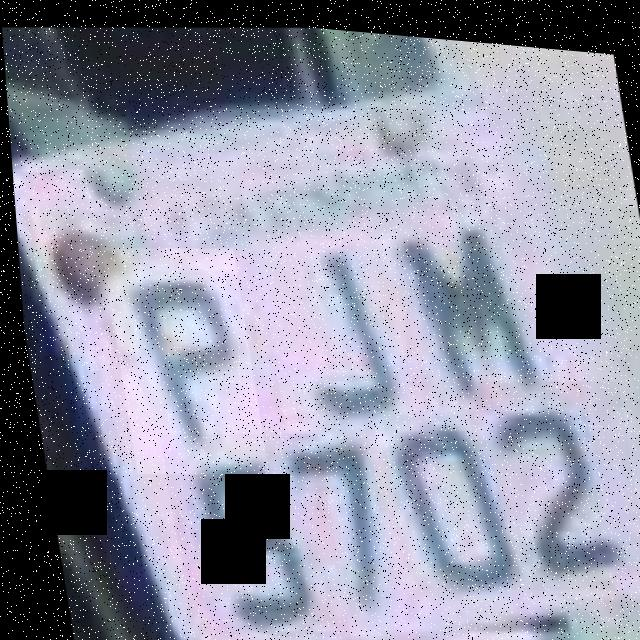0: (369, 378, 530, 604)
2: (458, 359, 640, 592)
5: (152, 417, 343, 640)
7: (252, 396, 427, 631)
J: (251, 223, 415, 437)
M: (377, 184, 550, 400)
P: (96, 234, 262, 481)
